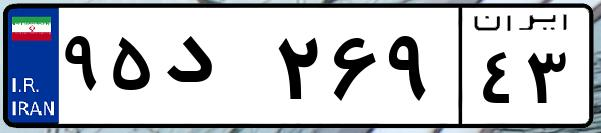2: (270, 28, 330, 110)
3: (525, 38, 570, 115)
4: (475, 38, 525, 113)
5: (110, 28, 158, 98)
6: (330, 28, 385, 110)
9: (385, 28, 445, 110), (57, 26, 110, 100)
د: (158, 20, 270, 120)
